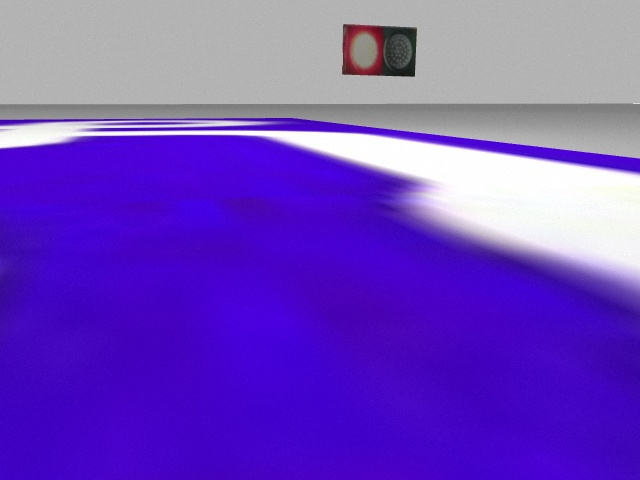red: (342, 23, 383, 78)
